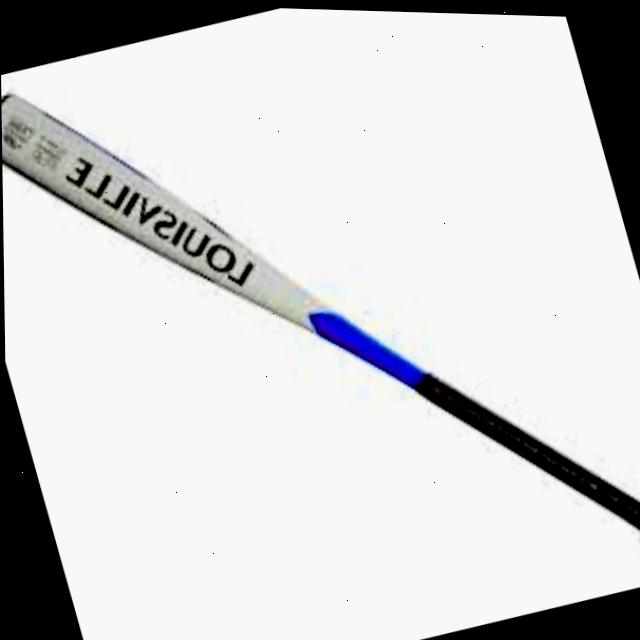baseball bat: (1, 81, 640, 544)
